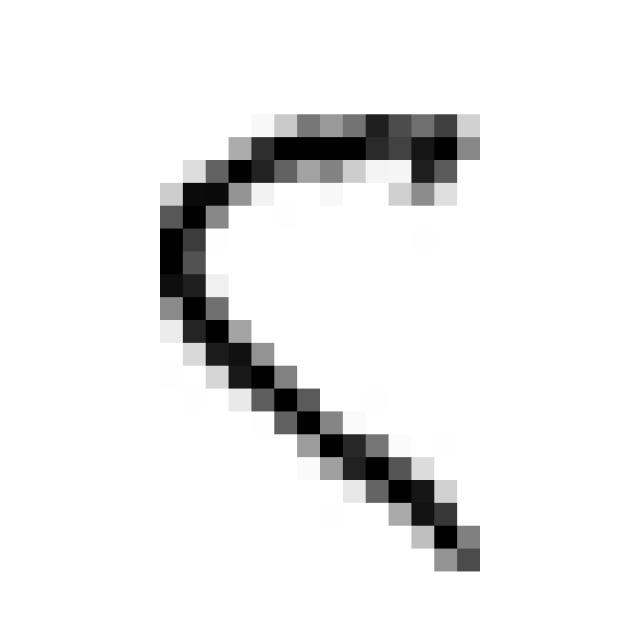2 -two-: (138, 92, 512, 588)
